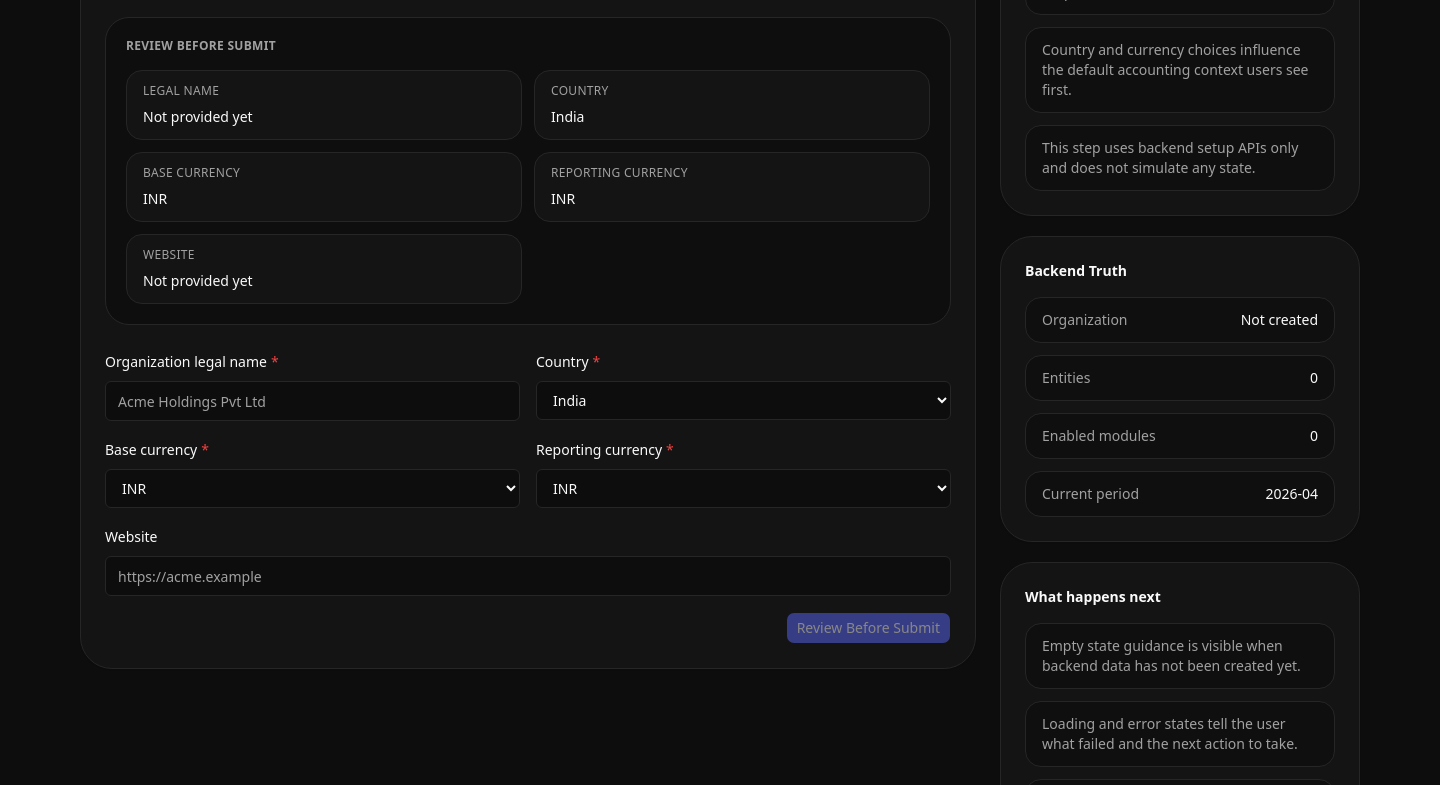
Test case: onboarding wizard › does not advance organization setup on optimistic local success alone
The width and height of the screenshot is (1440, 785).
(page scrolled)
Step 1. Type "Acme Group" into the field labelled "Organization legal name*" → (312, 401), box [105,381,520,421]
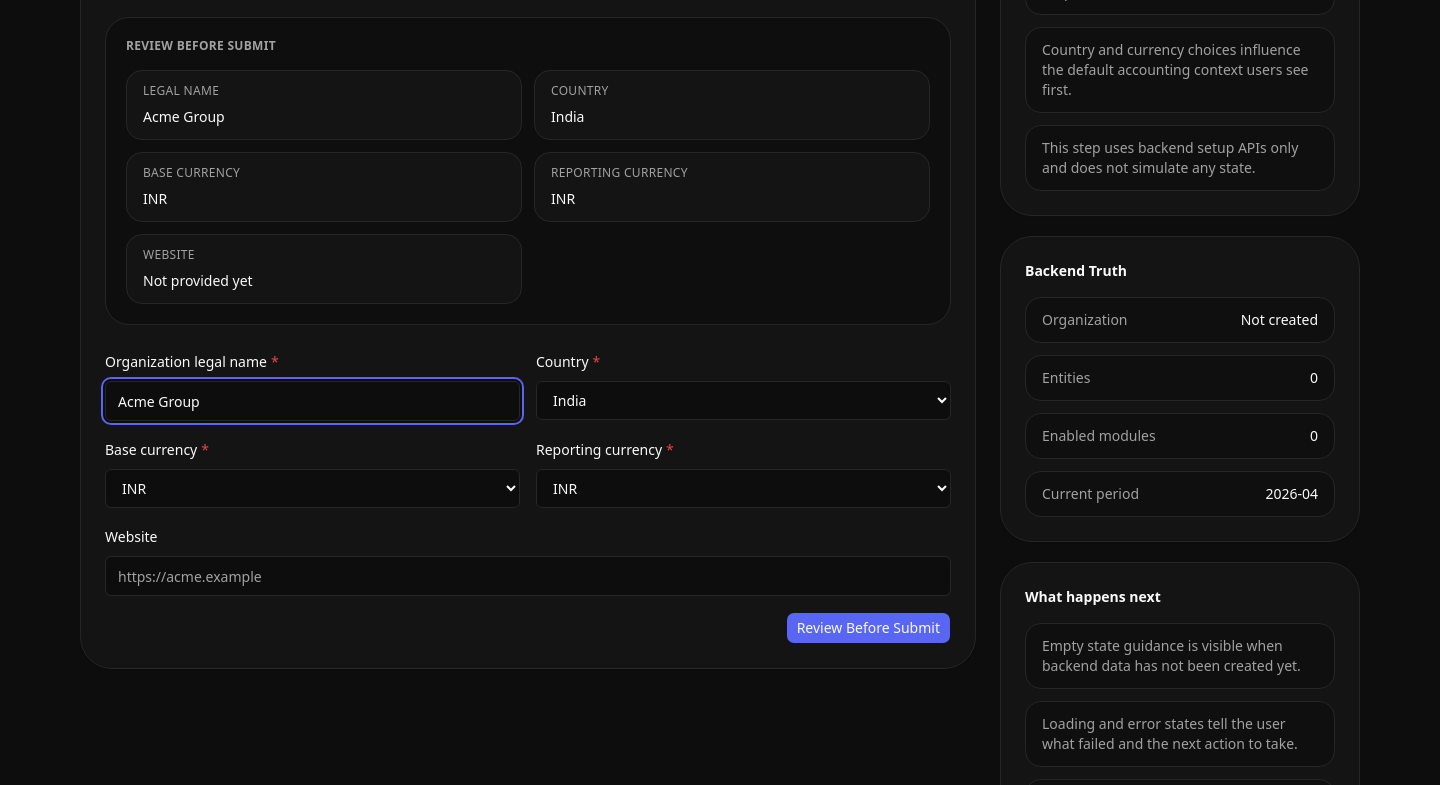
Step 2. Click the button "Review Before Submit" → (868, 628), box [786,612,951,644]
(page scrolled)
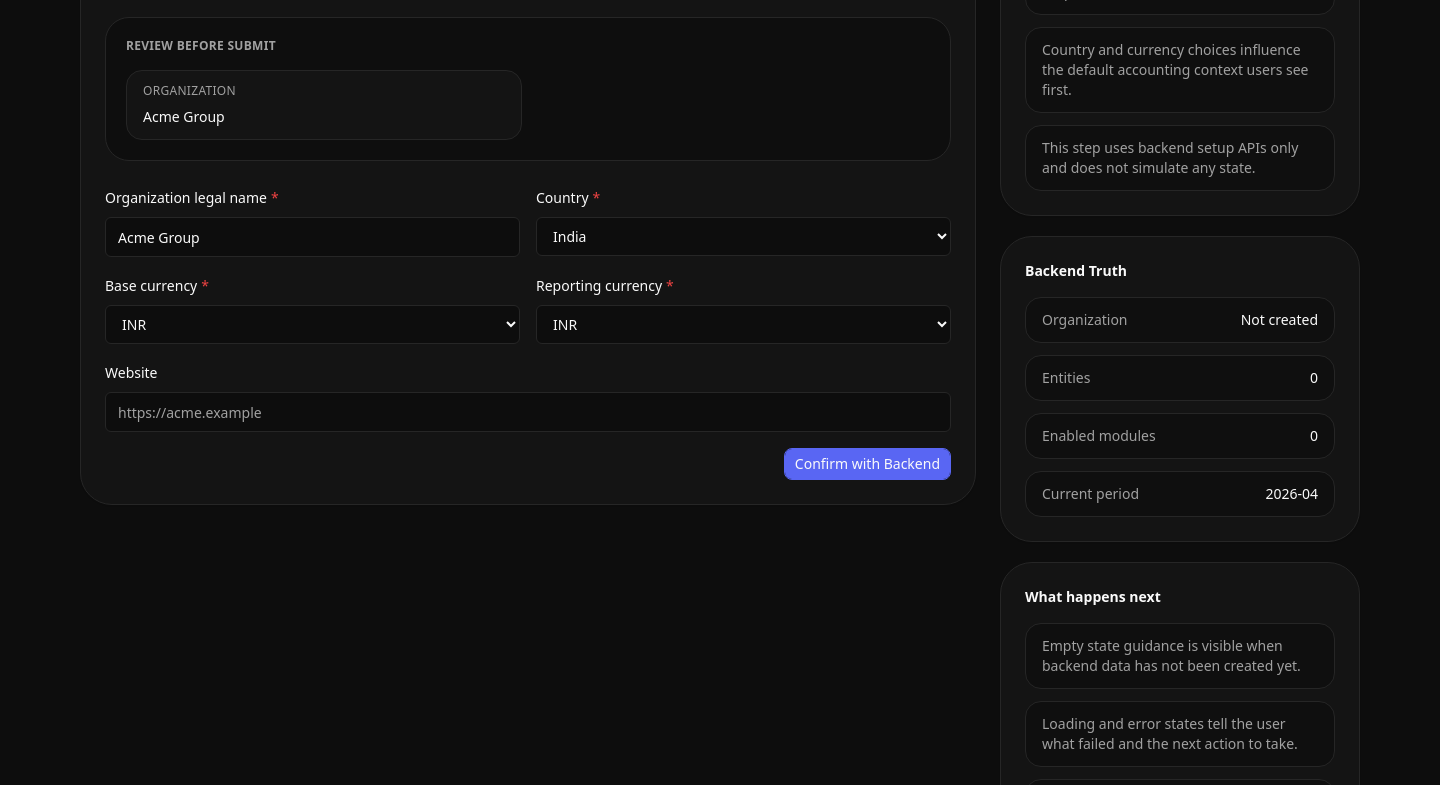
Step 3. Click the button "Confirm with Backend" → (867, 464), box [784,448,951,480]
(page scrolled)
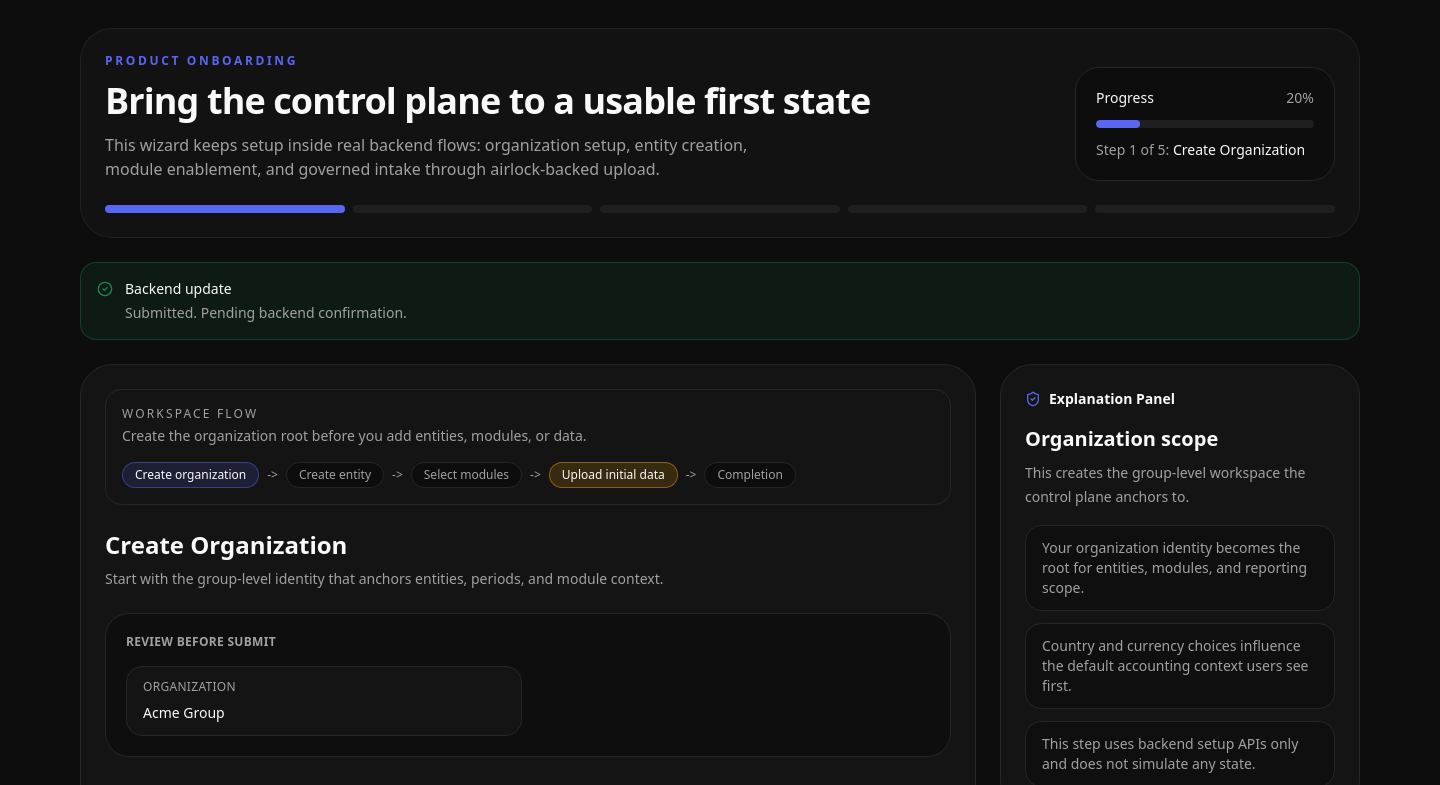
Now the text "Submitted. Pending backend confirmation." is shown, box [125,303,407,323]
